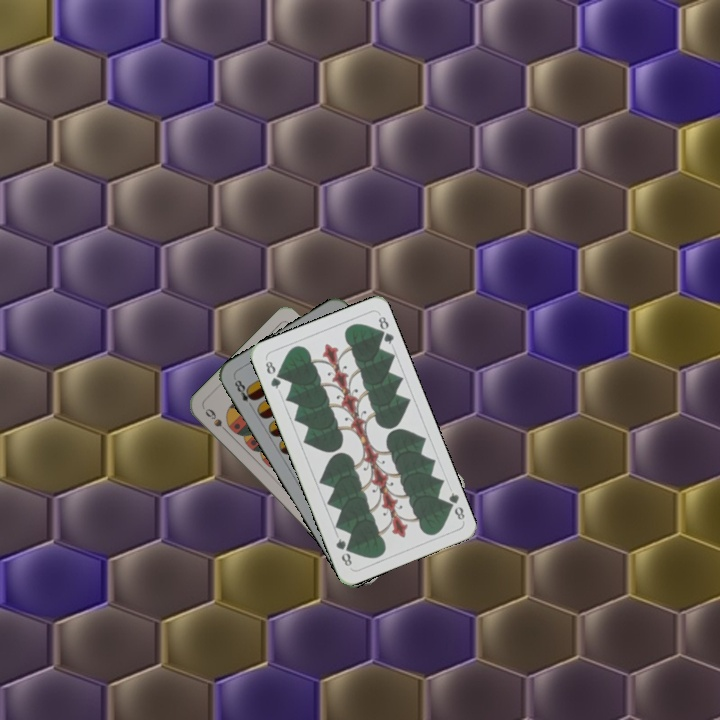E8: (230, 376, 258, 411)
G8: (441, 488, 467, 523), (261, 355, 284, 392)
S9: (201, 404, 232, 437)
